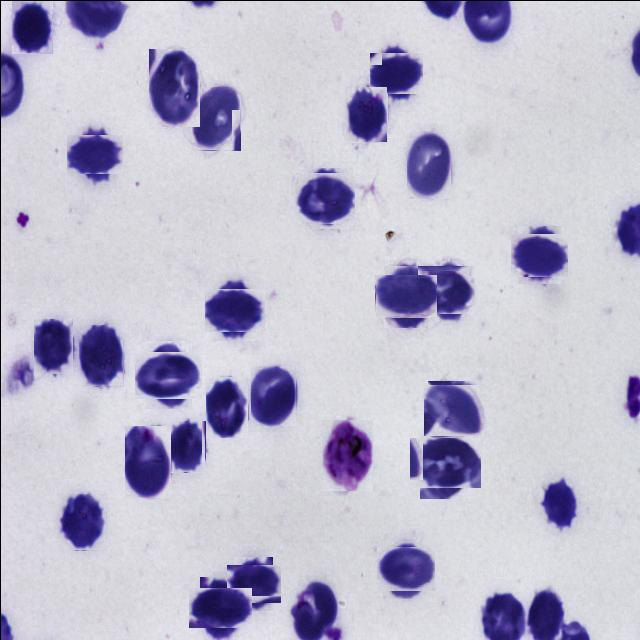red blood cell: (148, 48, 199, 126), (414, 432, 475, 493), (124, 425, 170, 497), (138, 346, 196, 402), (296, 170, 352, 226), (191, 86, 240, 150), (425, 382, 481, 438), (406, 132, 450, 198), (378, 269, 431, 322), (420, 262, 472, 316), (250, 365, 296, 426), (78, 324, 123, 386), (378, 542, 431, 594), (193, 582, 246, 634), (58, 493, 106, 550), (208, 284, 260, 336), (205, 376, 247, 437), (514, 229, 564, 279), (345, 86, 387, 142), (70, 130, 118, 178), (372, 48, 419, 96), (33, 318, 73, 374), (11, 0, 52, 53), (230, 560, 276, 606), (540, 476, 578, 530), (167, 420, 205, 472)
schizont: (320, 419, 372, 490)
